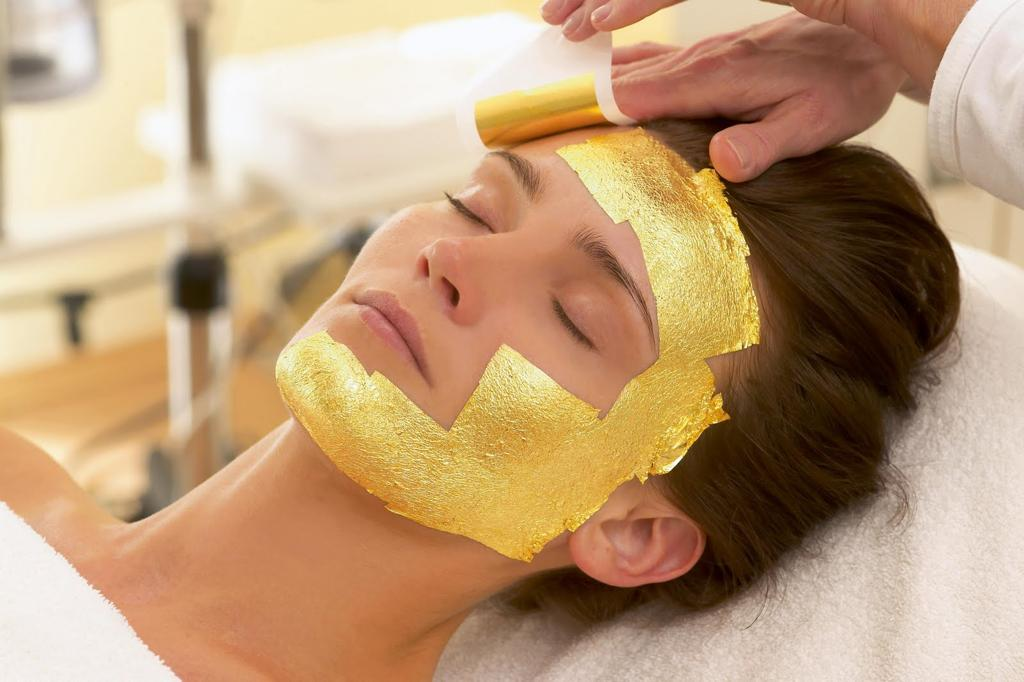face: (278, 136, 704, 480)
